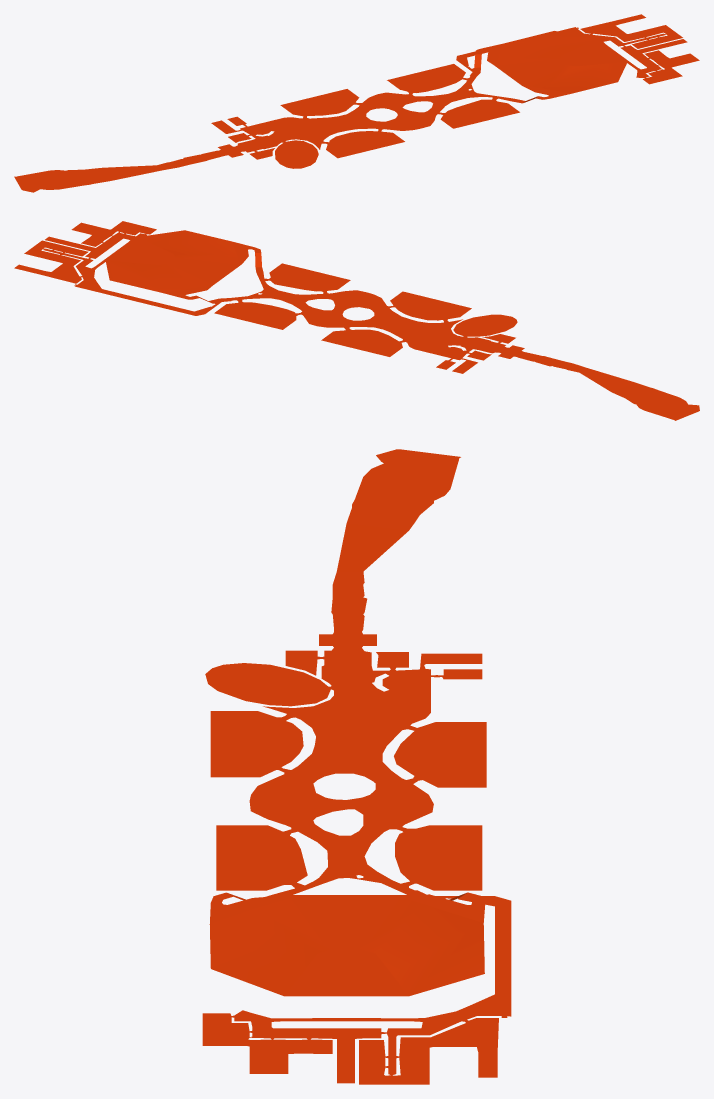
The model's file is Navmesh.glb.
3 views of the same model, one above another, from view 1: azimuth 30°, elevation 25°; view 2: azimuth 150°, elevation 25°; view 3: azimuth 270°, elevation 25° (orthographic). The views are drawn at different scales.
Visible parts, largest first — view 1: Navmesh; view 2: Navmesh; view 3: Navmesh.
Boxes of the visible parts, box(x1,y1,x2,y2) form: Navmesh: box(14, 14, 699, 192); Navmesh: box(14, 221, 699, 420); Navmesh: box(202, 449, 511, 1084).
Size of the model in its own units: 206 by 2.48 by 42.37.
